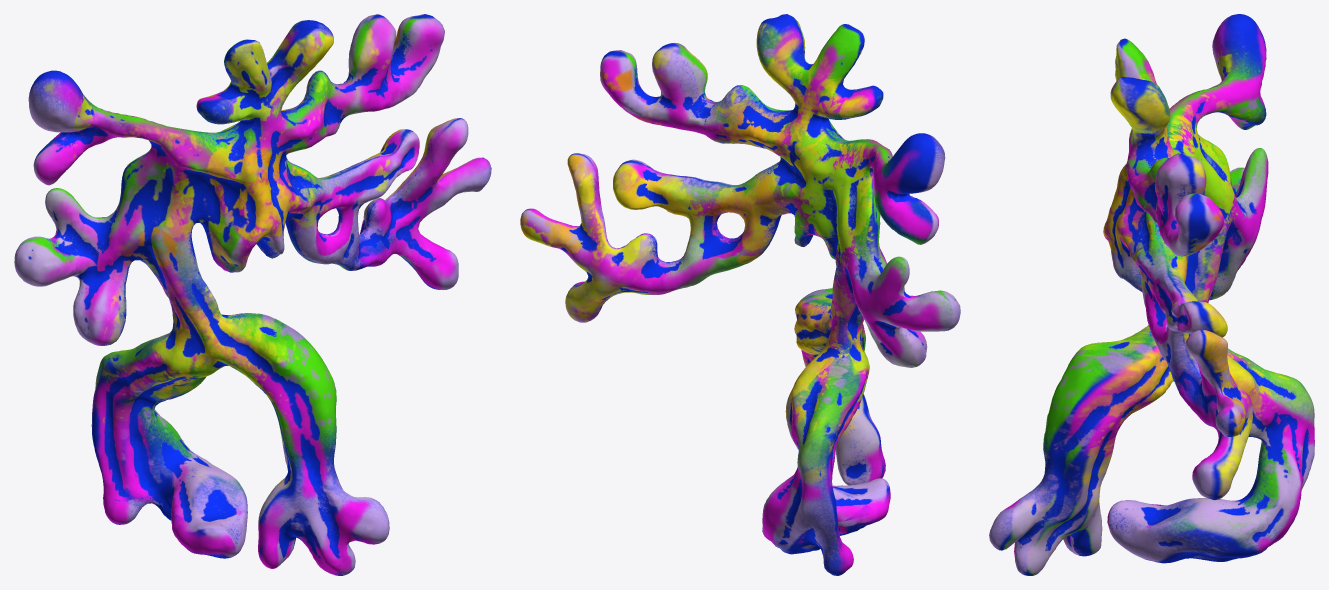
The model's file is shr-waterfall-tree-2.glb.
The picture shows the model from 3 angles, left to right: view 1: azimuth 30°, elevation 25°; view 2: azimuth 150°, elevation 25°; view 3: azimuth 270°, elevation 25°; orthographic projection. The views are drawn at different scales.
Visible parts, largest first — view 1: geometry_0; view 2: geometry_0; view 3: geometry_0.
Part boxes in pixels (x1,y1,x2,y2): geometry_0: (14,14,491,575); geometry_0: (520,14,960,575); geometry_0: (989,14,1314,575).
Size of the model in its own units: 0.9376 by 1 by 0.5639.
1 material, 1 textured.
